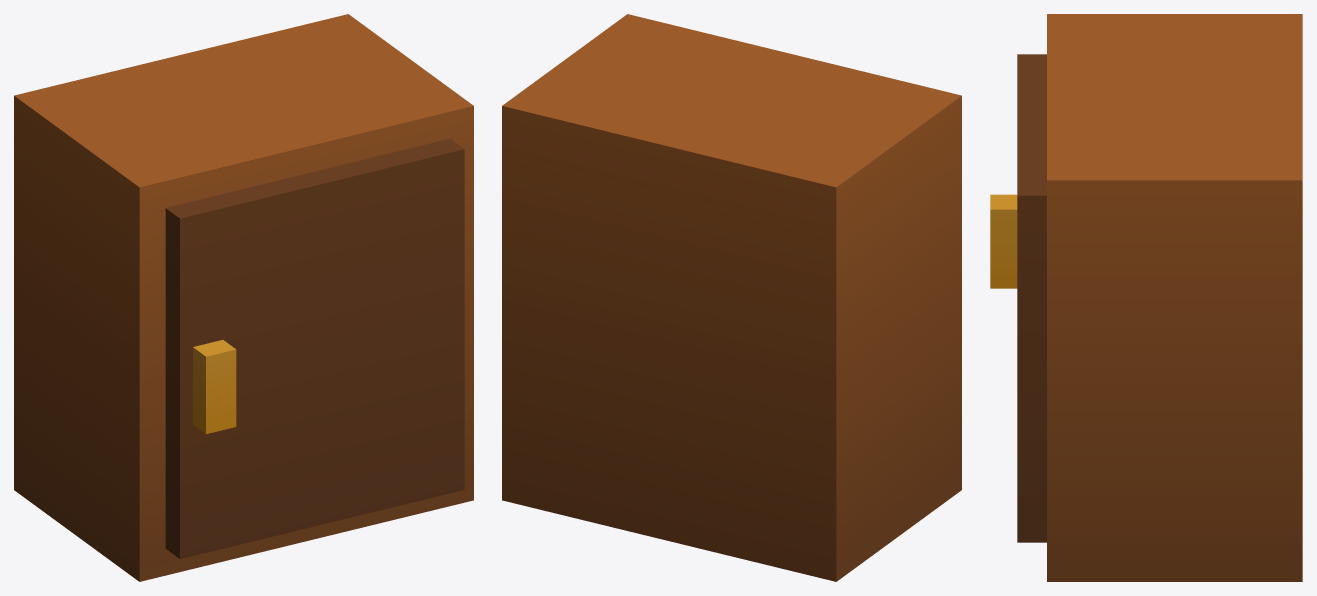
The model's file is WallCabinet_2Layer_1Door_spruce.fbx.
The picture shows the model from 3 angles, left to right: view 1: azimuth 30°, elevation 25°; view 2: azimuth 150°, elevation 25°; view 3: azimuth 270°, elevation 25°; orthographic projection.
Parts seen in each view (by area): view 1: WallCabinet_2Layer_1Door.spruce, WallCabinet_2Layer_1Door_DoorR.spruce; view 2: WallCabinet_2Layer_1Door.spruce; view 3: WallCabinet_2Layer_1Door.spruce, WallCabinet_2Layer_1Door_DoorR.spruce.
Boxes of the visible parts, x1,y1,x2,y2 form: WallCabinet_2Layer_1Door.spruce: (14, 14, 473, 581); WallCabinet_2Layer_1Door_DoorR.spruce: (165, 138, 464, 559); WallCabinet_2Layer_1Door.spruce: (502, 14, 961, 581); WallCabinet_2Layer_1Door.spruce: (1047, 14, 1302, 581); WallCabinet_2Layer_1Door_DoorR.spruce: (990, 54, 1046, 542).
Bounding box in the file's own units: 99.99 × 113 × 79.38.
